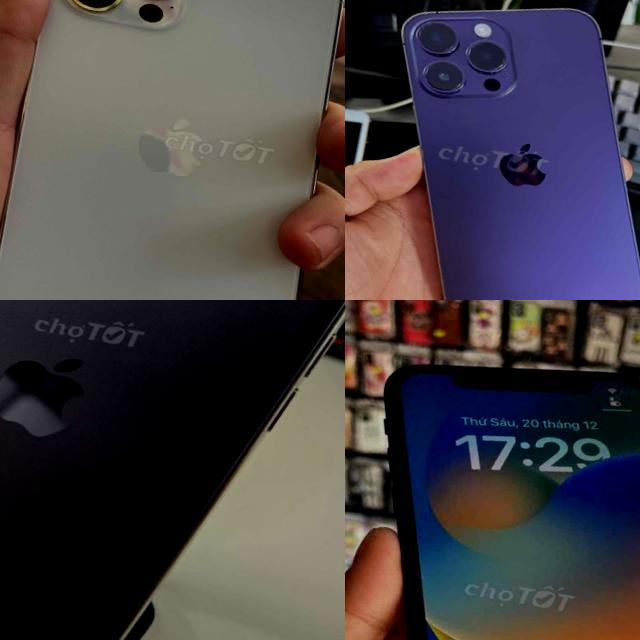gen_12_13: (0, 0, 345, 300)
gen_14: (0, 300, 345, 640), (347, 0, 640, 300)
gen_x_xs: (345, 328, 640, 640)
